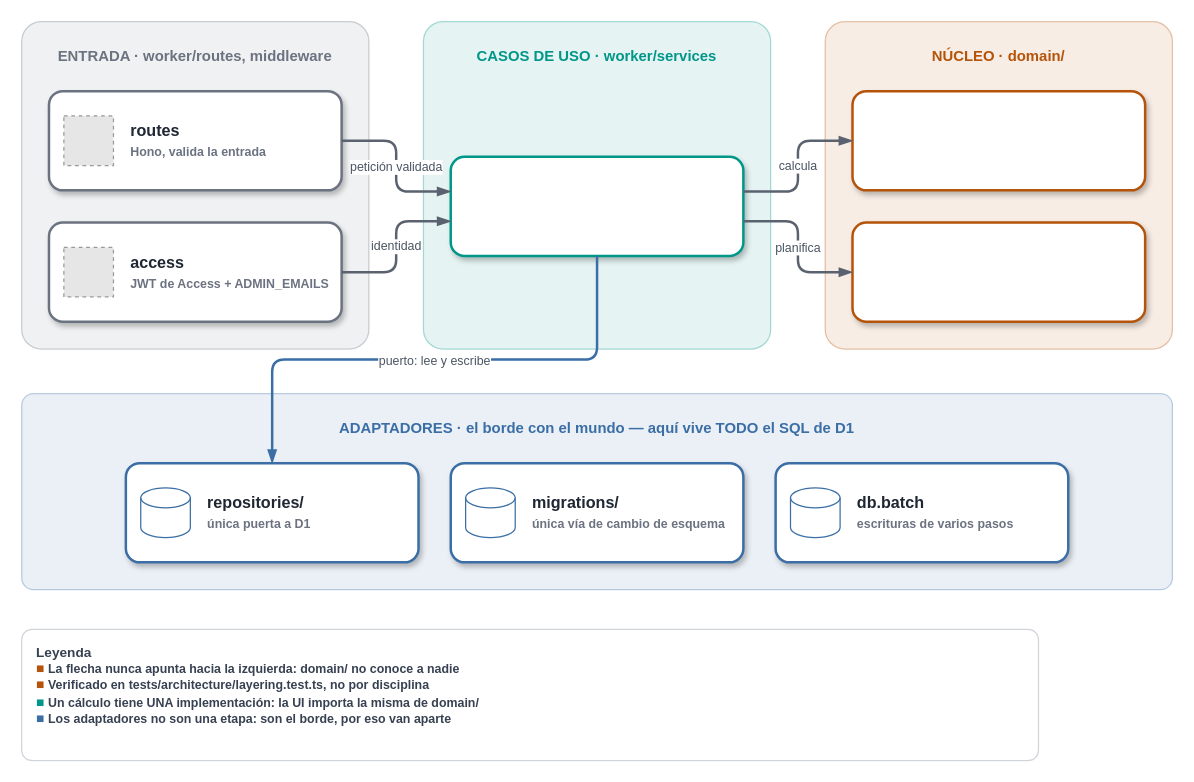
The diagram is 1194 pixels wide and 782 high, and some of its shapes have lost their labels. Grey dashed boxes stand in for pictures. The shapes that lost their labels are listed below. From the top down, each one's centre as x and y in pixels, then its label:
At pixel 999 142: "costing AIU, IVA · big.js, nunca float".
At pixel 597 207: "Servicios de caso de uso orquestan; no calculan".
At pixel 999 273: "simulation duración y cronograma de obra".
